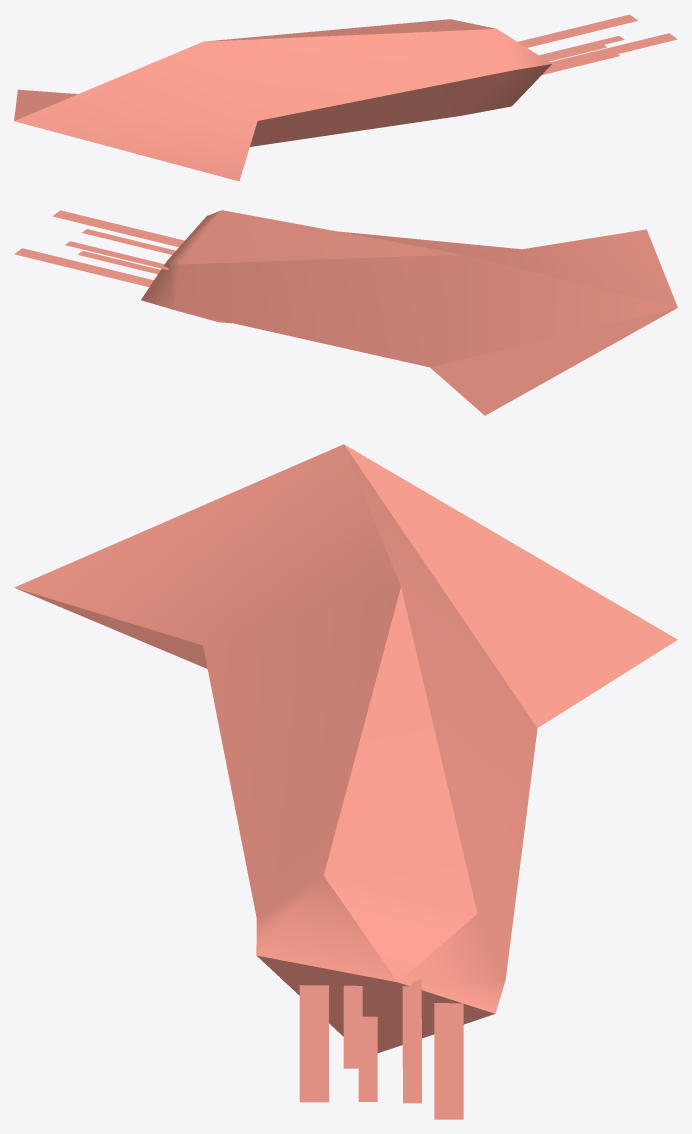
Rendered from Squid.fbx.
3 views of the same model, one above another, from view 1: azimuth 30°, elevation 25°; view 2: azimuth 150°, elevation 25°; view 3: azimuth 270°, elevation 25° (orthographic). The views are drawn at different scales.
Visible parts, largest first — view 1: polySurface2; view 2: polySurface2; view 3: polySurface2.
Boxes of the visible parts, x1,y1,x2,y2 form: polySurface2: [14, 14, 677, 181]; polySurface2: [14, 210, 677, 415]; polySurface2: [14, 444, 677, 1119].
Bounding box in the file's own units: 3.05 × 0.6005 × 1.58.
1 material, 1 textured.
